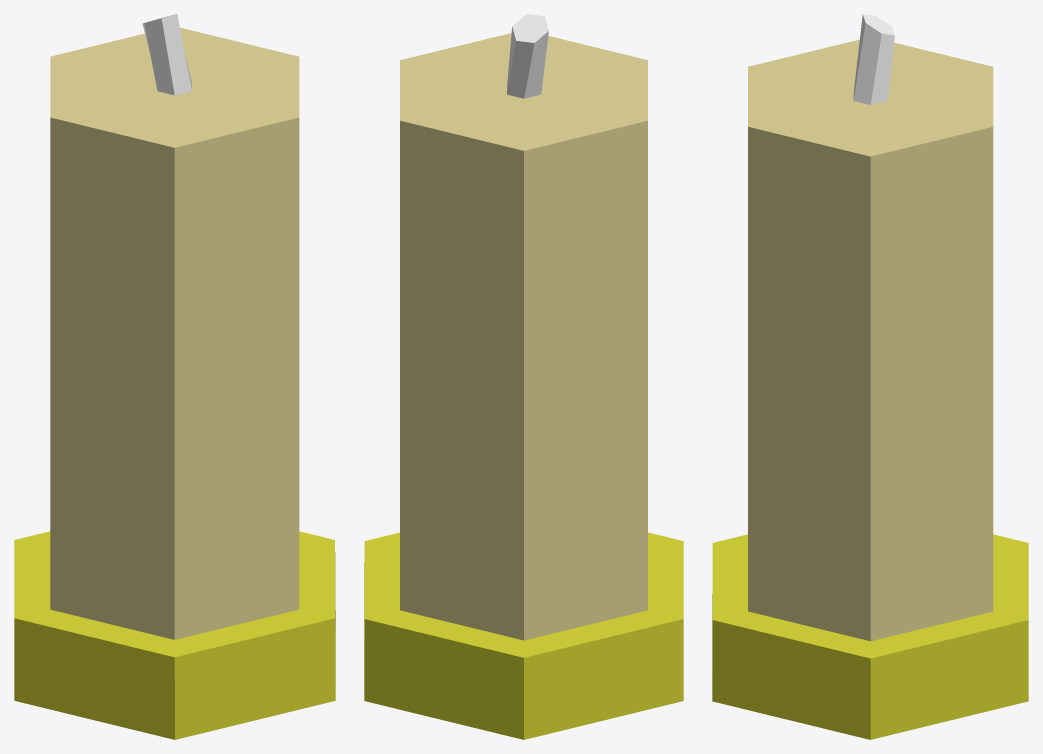
The model's file is Model_swiecznik_2.fbx.
3 views of the same model, side by side, from view 1: azimuth 30°, elevation 25°; view 2: azimuth 150°, elevation 25°; view 3: azimuth 270°, elevation 25° (orthographic).
Visible parts, largest first — view 1: Mesh_swiecznik_2; view 2: Mesh_swiecznik_2; view 3: Mesh_swiecznik_2.
Boxes of the visible parts, x1,y1,x2,y2 form: Mesh_swiecznik_2: (14,14,335,739); Mesh_swiecznik_2: (364,14,683,739); Mesh_swiecznik_2: (712,14,1028,739).
Bounding box in the file's own units: 19.67 × 43.96 × 22.71.
